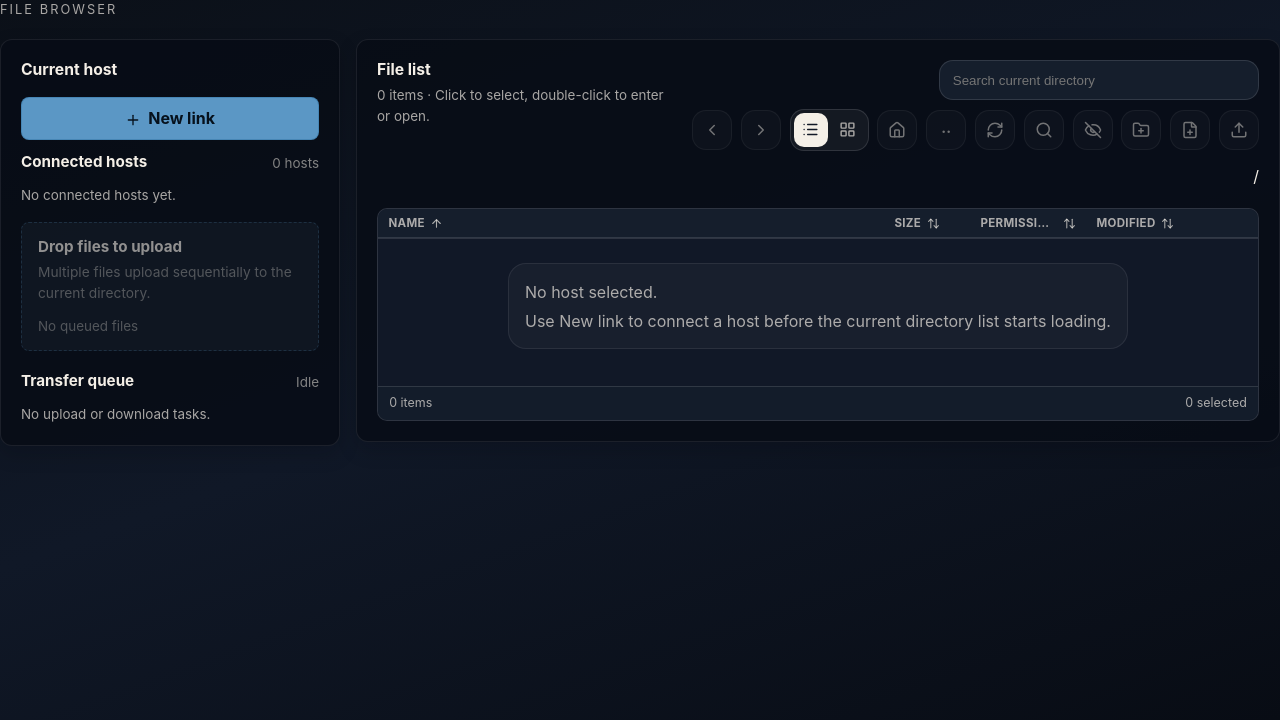
Test: FilesPage › filters available hosts from the new link picker
The image size is (1280, 720).
Click the button "New link".
click(170, 118)  # box left=21, top=97, right=319, bottom=140
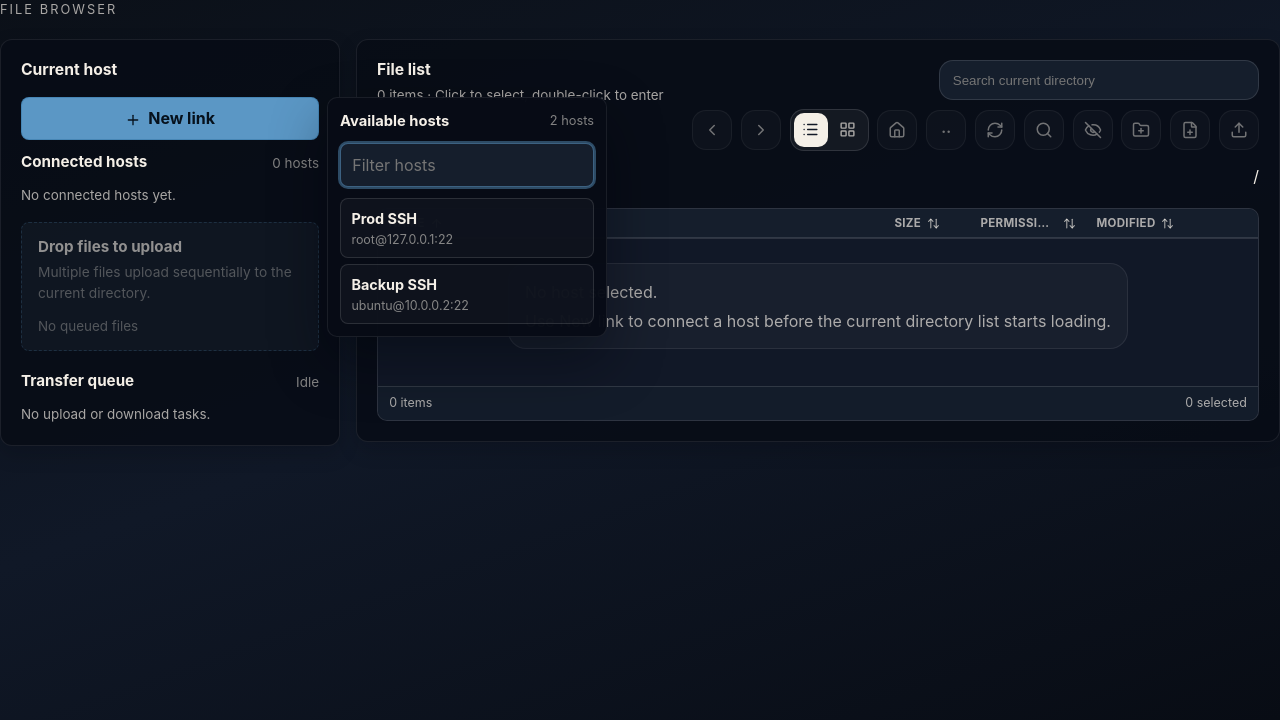
Result: the search field with placeholder "Filter hosts" is shown
Result: the button "Prod SSH root@127.0.0.1:22" is shown at left=340, top=198, right=594, bottom=258
Result: the button "Backup SSH ubuntu@10.0.0.2:22" is shown at left=340, top=264, right=594, bottom=324
Type "backup" into the search field with placeholder "Filter hosts".
click(467, 165); type("backup")  # box left=340, top=143, right=594, bottom=187
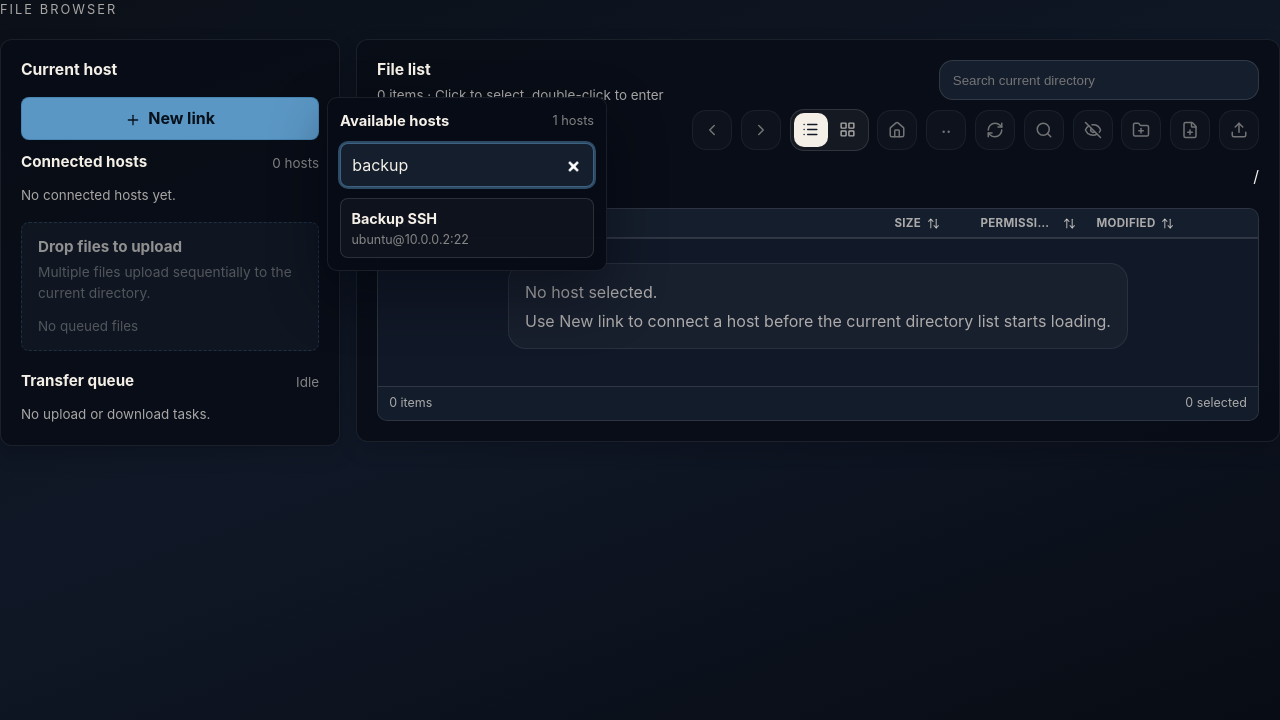
Result: the button "Backup SSH ubuntu@10.0.0.2:22" is shown at left=340, top=198, right=594, bottom=258
Result: the button "Prod SSH" is gone
